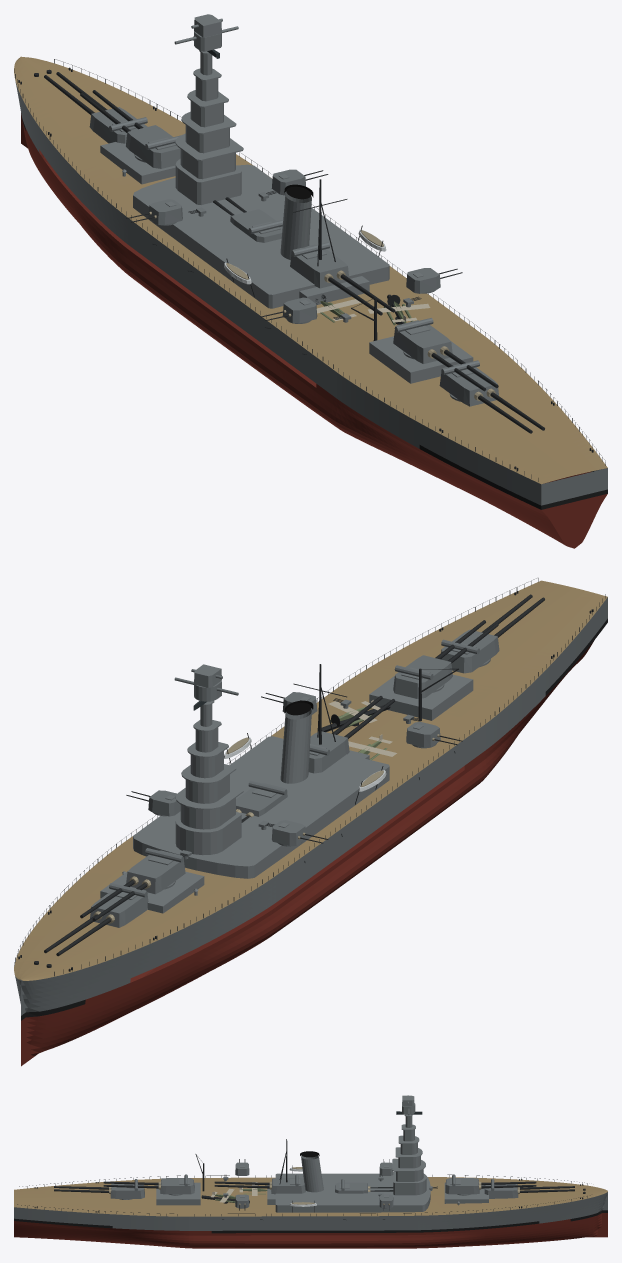
Rendered from fuso.glb.
3 renders of one model, top to bottom at view 1: azimuth 30°, elevation 25°; view 2: azimuth 150°, elevation 25°; view 3: azimuth 270°, elevation 25°, orthographic. The views are drawn at different scales.
Parts seen in each view (by area): view 1: Hull, Turret5, Turret4, Turret2, Turret6, Turret1, Turret3, Mount2, Mount4, Mount3; view 2: Hull, Turret2, Turret5, Turret6, Turret1, Turret4, Turret3, Mount2, Mount4, Mount1; view 3: Hull, Turret5, Turret2, Turret4, Turret6, Turret1, Turret3.
Boxes of the visible parts, x1,y1,x2,y2 form: Hull: (14, 26, 607, 548); Turret5: (393, 318, 498, 391); Turret4: (290, 242, 395, 315); Turret2: (80, 90, 180, 168); Turret6: (439, 360, 544, 433); Turret1: (44, 72, 147, 143); Turret3: (213, 197, 283, 242); Mount2: (126, 199, 182, 225); Mount4: (261, 297, 317, 323); Mount3: (406, 268, 462, 293); Hull: (14, 578, 607, 1066); Turret2: (80, 848, 185, 921); Turret5: (393, 620, 498, 698); Turret6: (441, 594, 544, 673); Turret1: (44, 883, 148, 956); Turret4: (308, 696, 395, 773); Turret3: (236, 780, 287, 822); Mount2: (272, 820, 328, 846); Mount4: (406, 721, 462, 748); Mount1: (126, 790, 180, 816); Hull: (14, 1102, 607, 1248); Turret5: (103, 1174, 194, 1195); Turret2: (445, 1174, 536, 1195); Turret4: (214, 1174, 305, 1194); Turret6: (54, 1179, 144, 1199); Turret1: (484, 1179, 574, 1198); Turret3: (335, 1179, 393, 1193).
Size of the model in its own units: 43.9 by 55.47 by 214.
